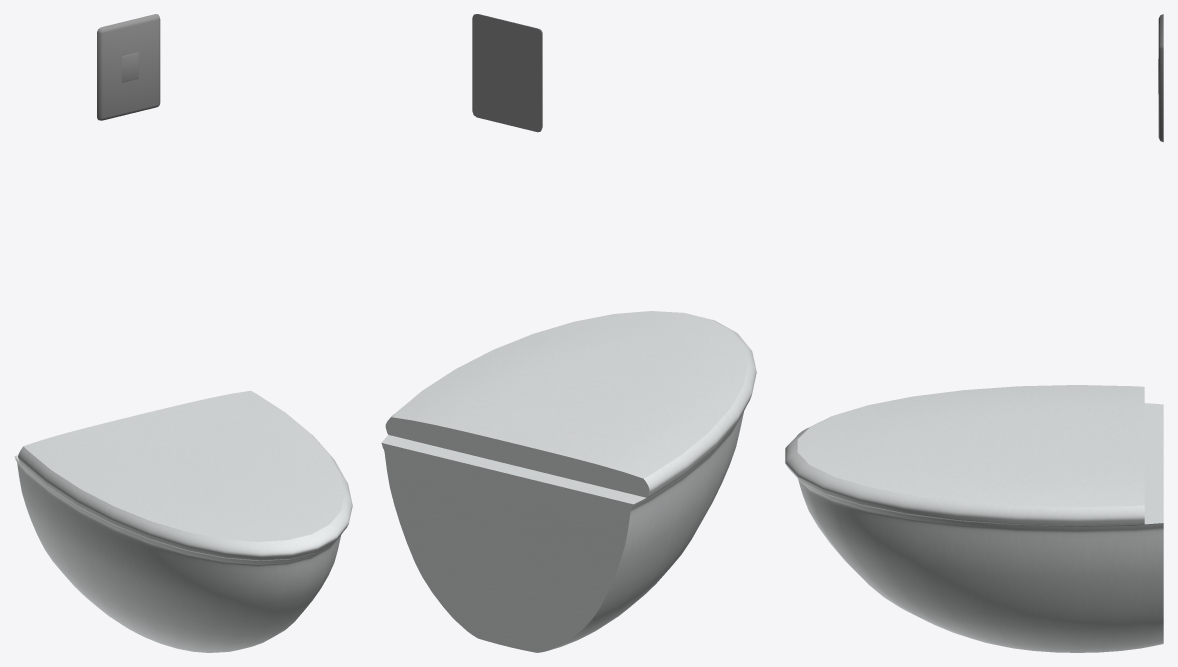
Rendered from Toilet_B01.FBX.
3 views of the same model, side by side, from view 1: azimuth 30°, elevation 25°; view 2: azimuth 150°, elevation 25°; view 3: azimuth 270°, elevation 25° (orthographic). The views are drawn at different scales.
Visible parts, largest first — view 1: Toilet_B01; view 2: Toilet_B01; view 3: Toilet_B01.
Part boxes in pixels (left/top/right/bottom): Toilet_B01: left=14, top=14, right=352, bottom=652; Toilet_B01: left=381, top=14, right=756, bottom=652; Toilet_B01: left=785, top=14, right=1163, bottom=652.
Size of the model in its own units: 23.3 by 51.33 by 29.19.
